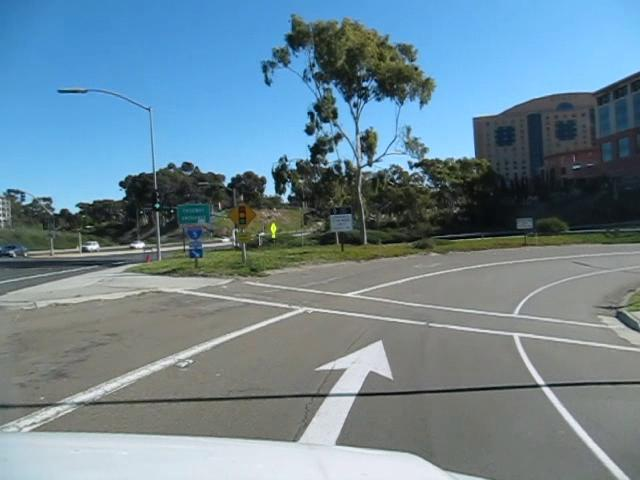signalAhead: (227, 199, 257, 230)
